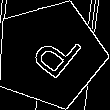P_SW: (19, 23, 81, 86)
